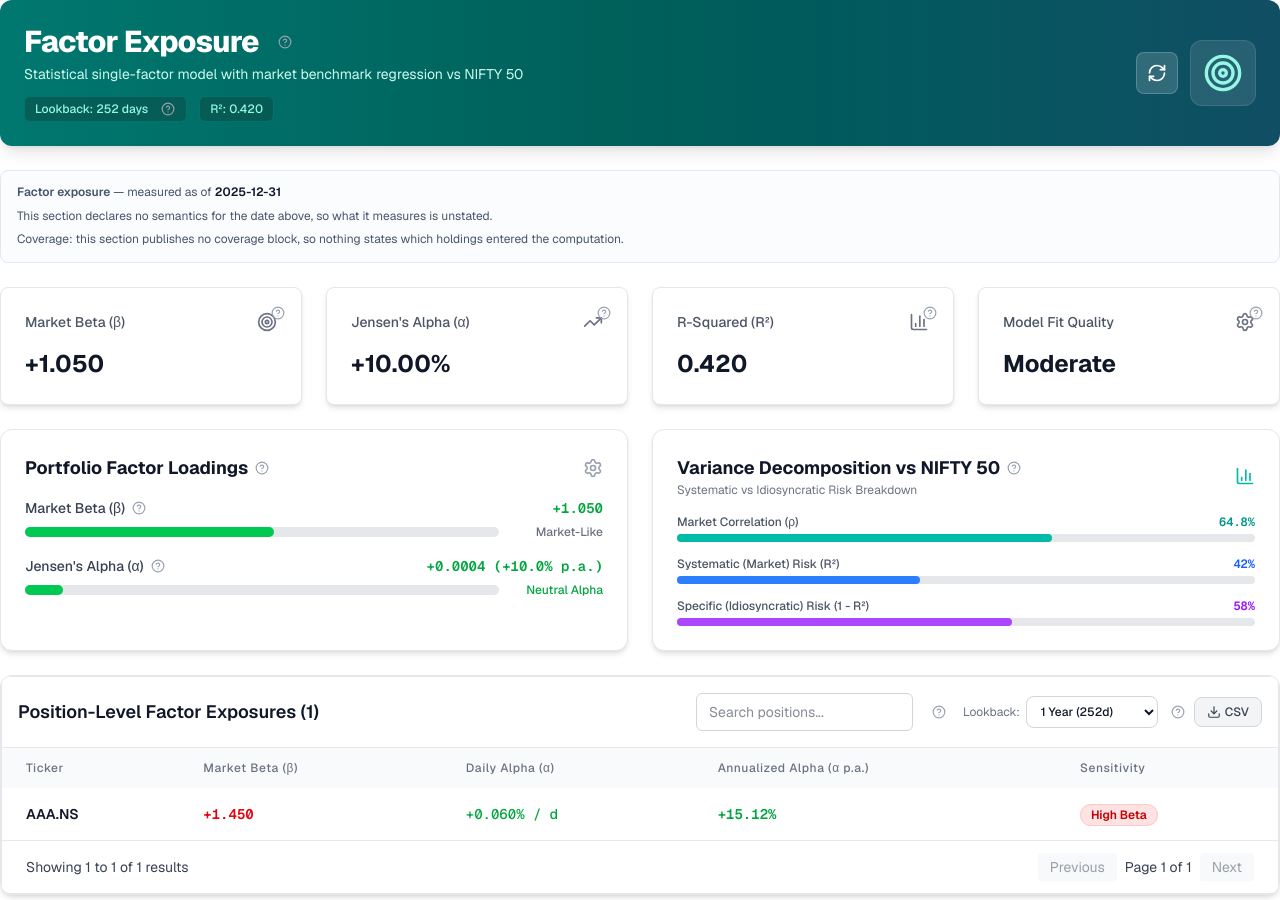
Scenario: hand-rolled dashboard modals manage focus (Radix Dialog contract) › factor-exposure: the explainer takes focus and gives it back
Click the 1st button named "Help" at coordinates (285, 42), box [277,34,293,50]
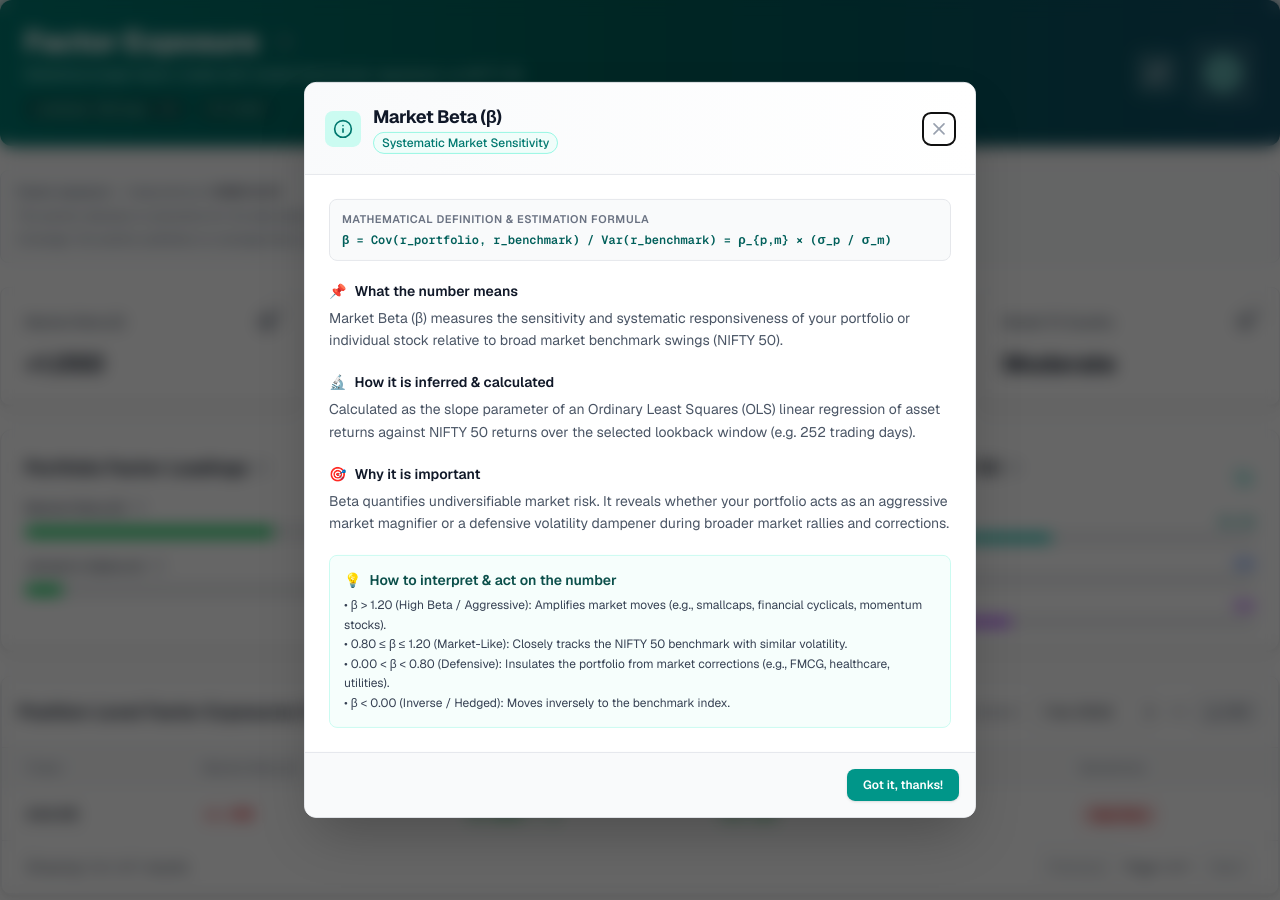
Press Escape
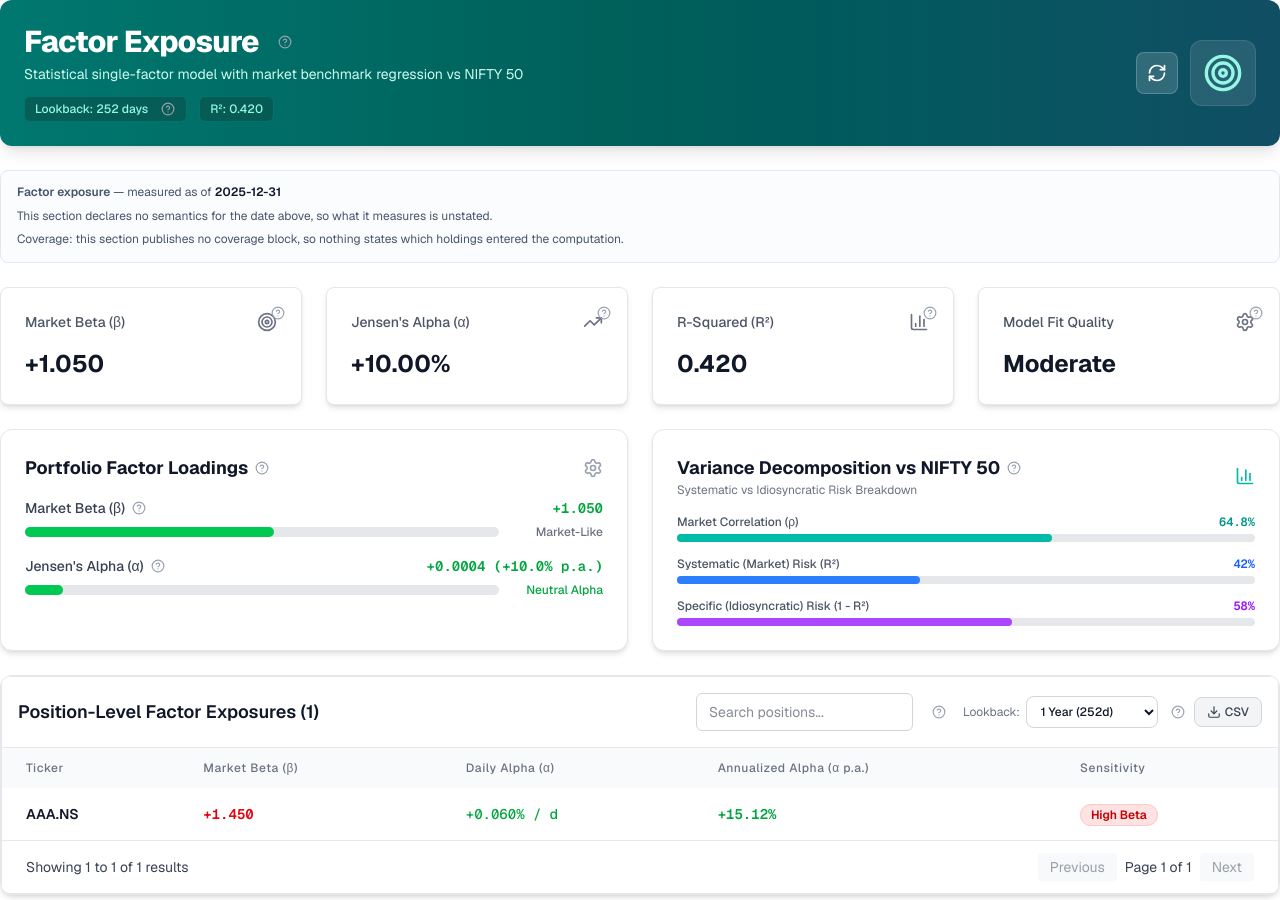
Expected: the dialog is gone
